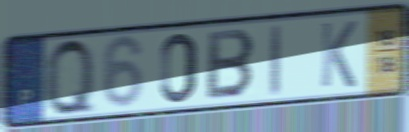0: (158, 31, 199, 106)
6: (99, 32, 149, 114)
B: (204, 27, 259, 102)
I: (268, 21, 284, 98)
K: (318, 19, 359, 91)
Q: (42, 34, 99, 119)
